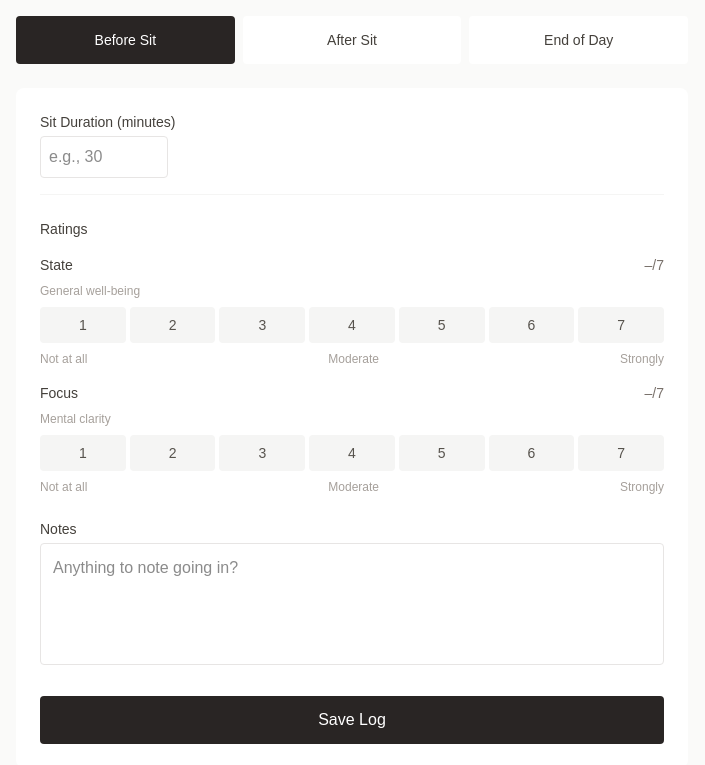
Test: LogForm › shows error message on failed submit
(page scrolled)
Click the button "Save Log" at x=352, y=720, box [40,696,664,744]
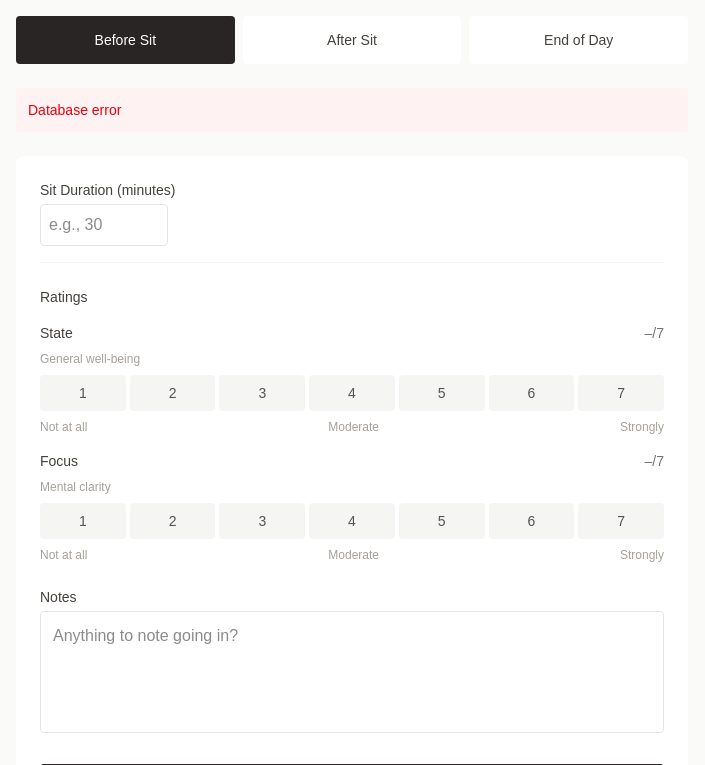
Now the text "Database error" is shown, box [16,88,688,132]
